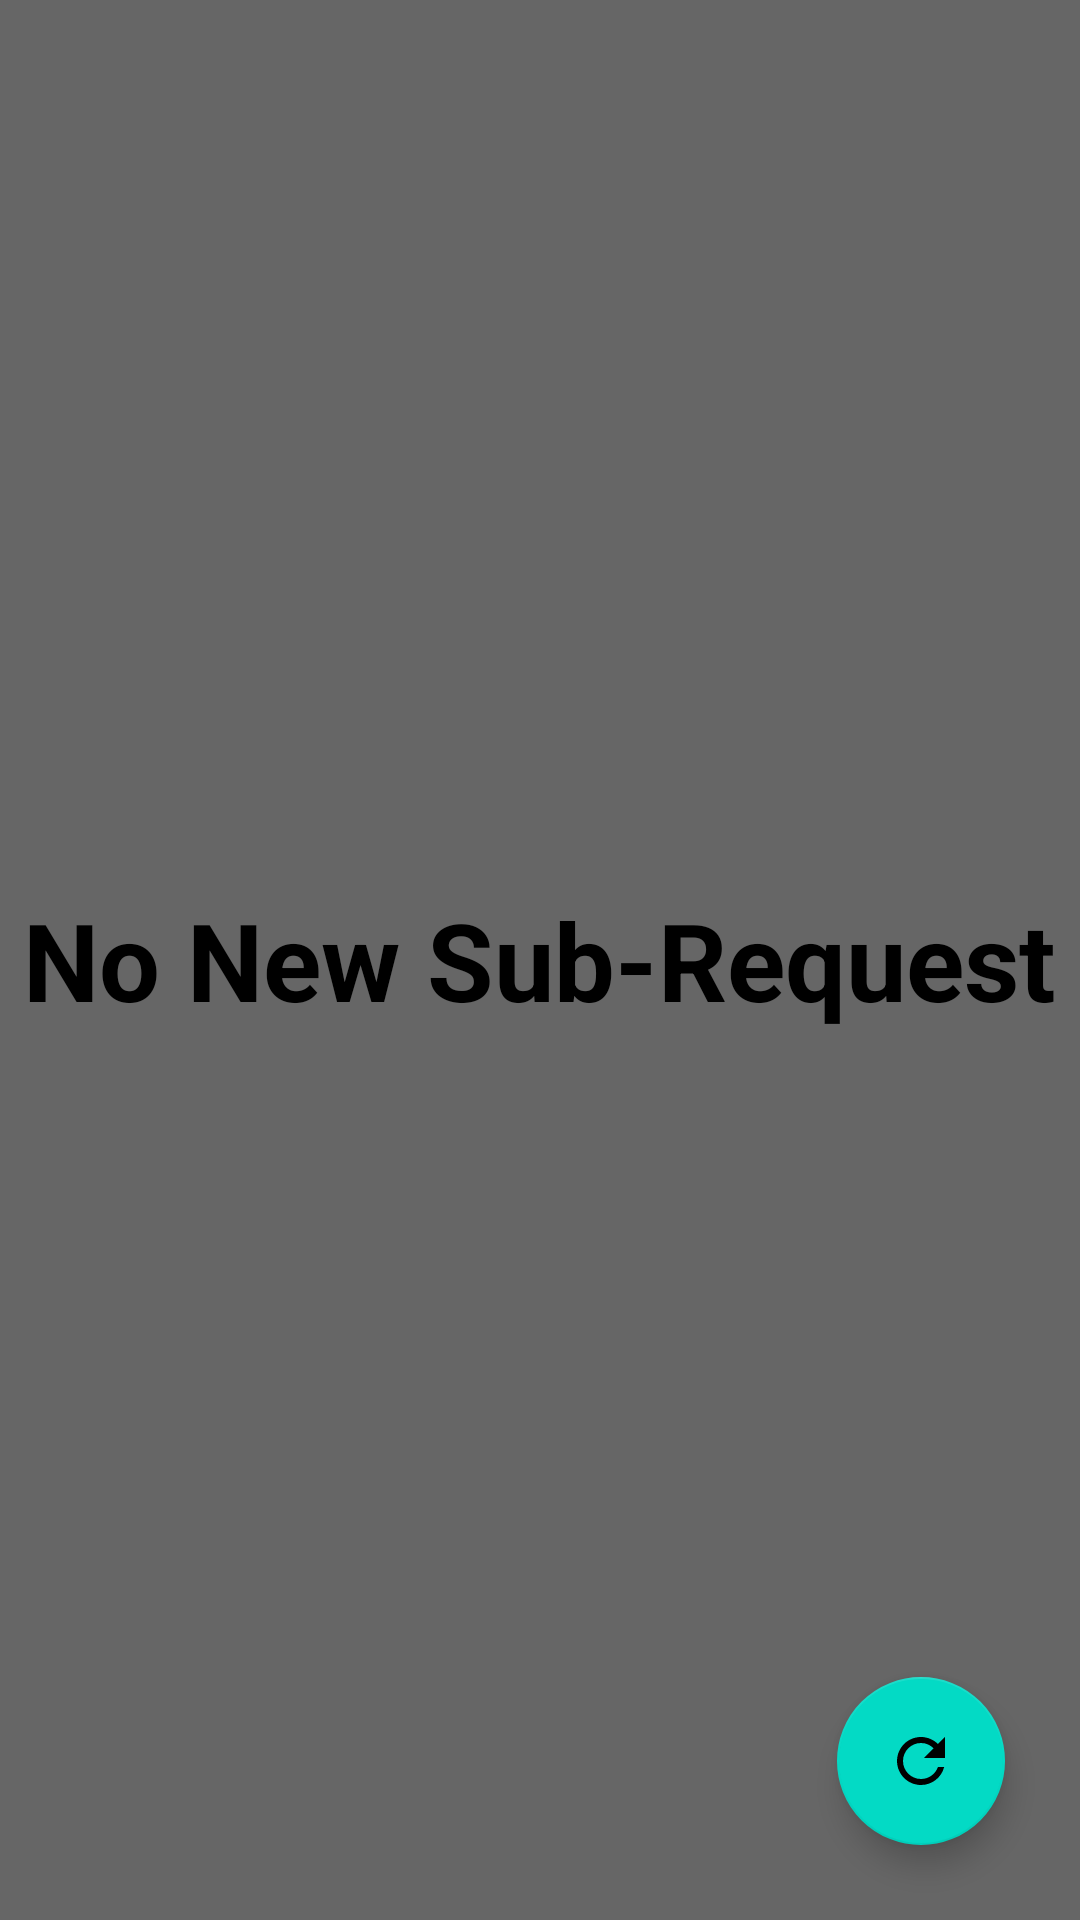

Where icons sit on this 1080x1920 app screen, as (x1, y1, x2, y2):
refresh: (837, 1677, 1005, 1845)
